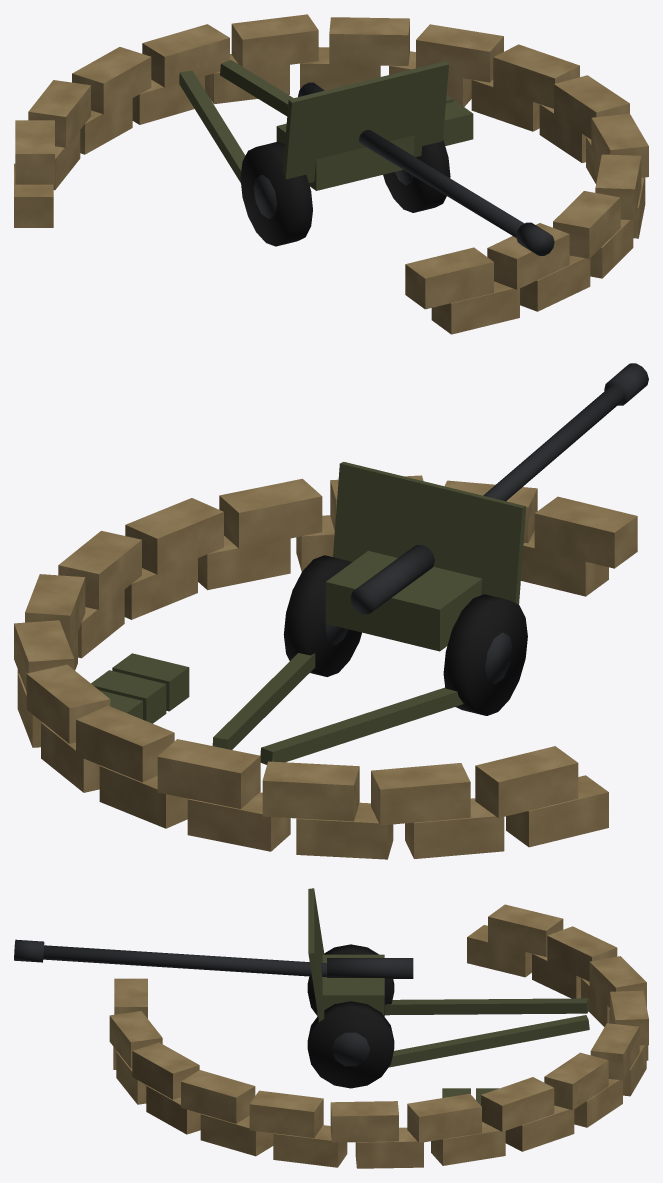
File: artillery.glb
3 renders of one model, top to bottom at view 1: azimuth 30°, elevation 25°; view 2: azimuth 150°, elevation 25°; view 3: azimuth 270°, elevation 25°, orthographic. The views are drawn at different scales.
Parts seen in each view (by area): view 1: Gun; view 2: Gun; view 3: Gun.
Part boxes in pixels (x1,y1,x2,y2): Gun: (14, 14, 648, 334); Gun: (14, 363, 648, 859); Gun: (14, 888, 648, 1168).
Size of the model in its own units: 5.38 by 1.55 by 6.61.
Materials: 4 (1 with a texture image).
